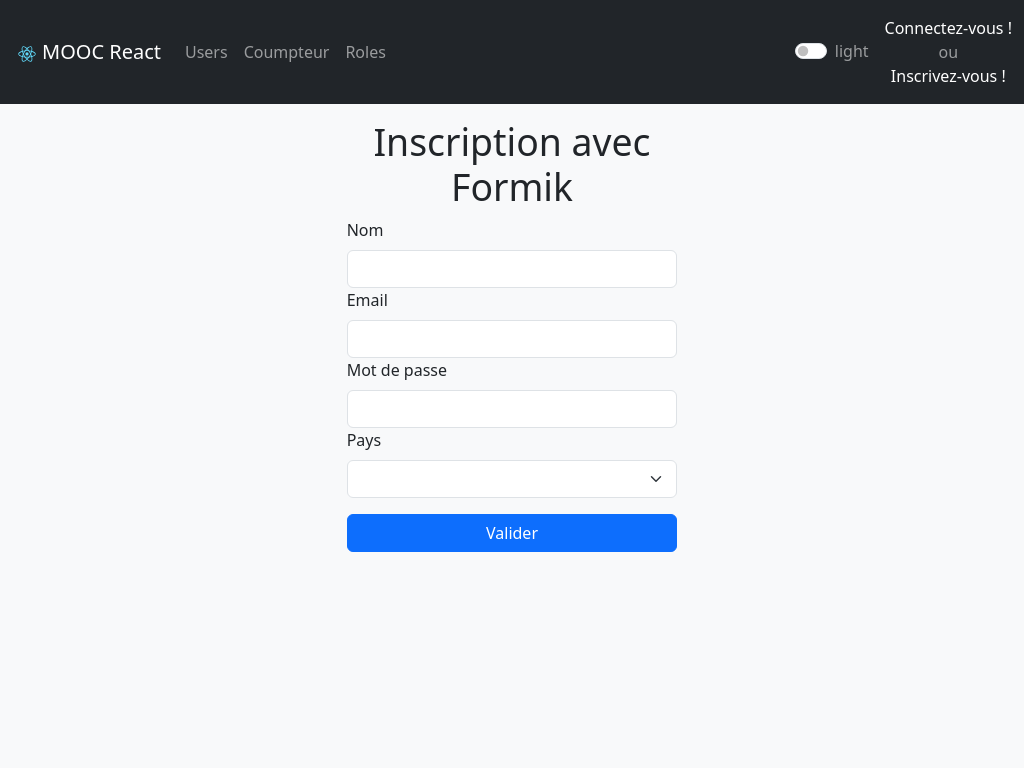
Test case: Inscription › devrait afficher une erreur si mot de passe trop court
Step 1. Type "TestName" into the field with id "name" → [513, 269], box x1=347 y1=250 x2=678 y2=288
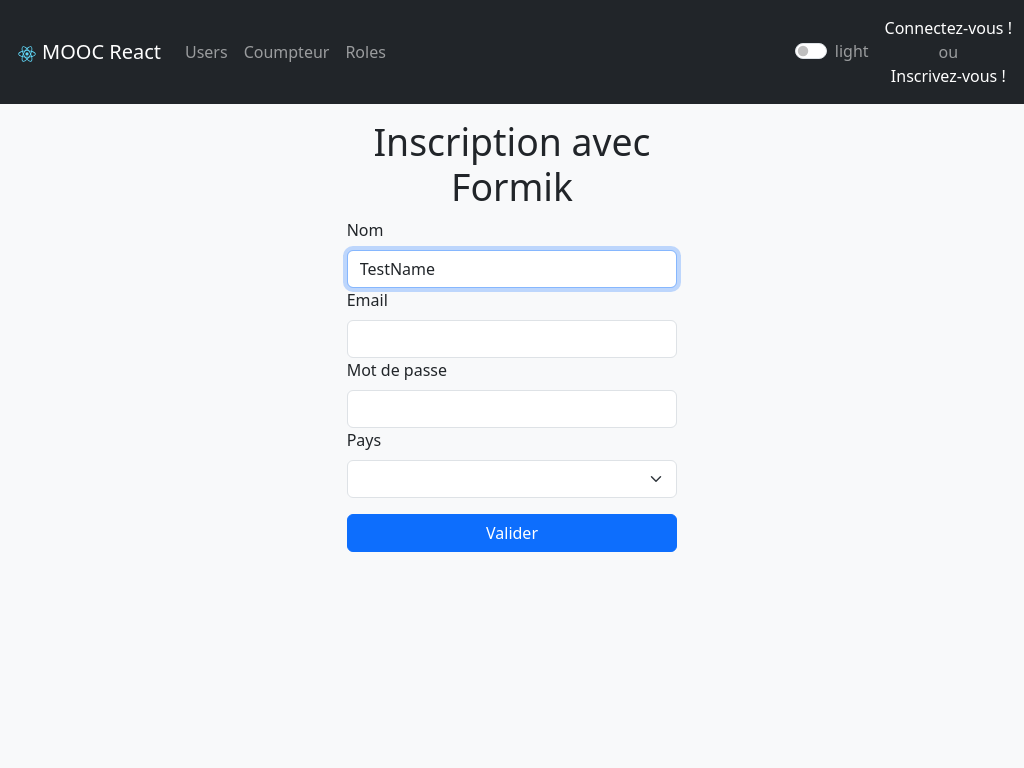
Step 2. Type "test@test.fr" into the field with id "email" → [513, 339], box x1=347 y1=320 x2=678 y2=358
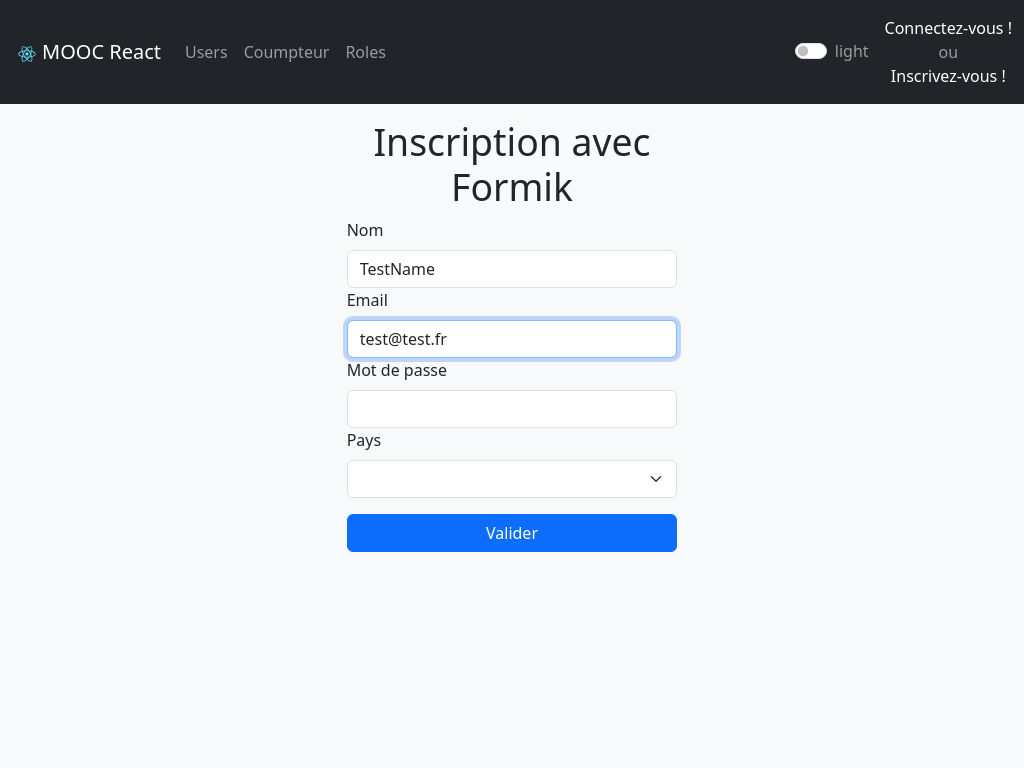
Step 3. Type "1234567" into the password field labelled "Mot de passe" → [513, 409], box x1=347 y1=390 x2=678 y2=428
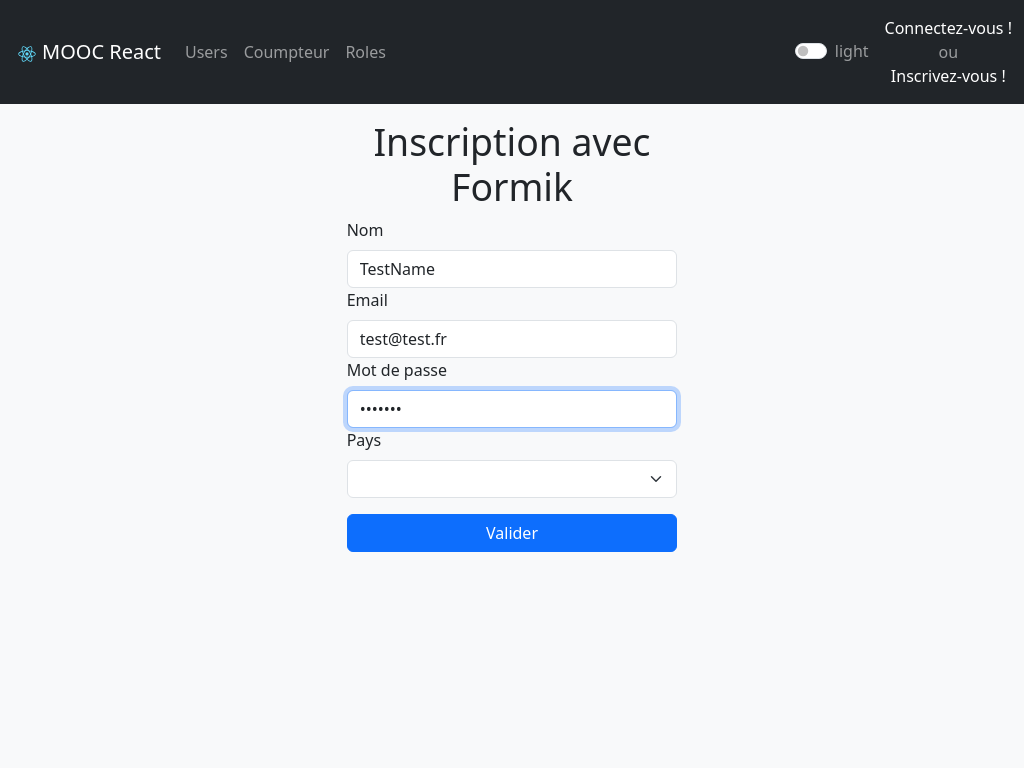
Step 4. Click the submit button → [513, 533], box x1=347 y1=514 x2=678 y2=552
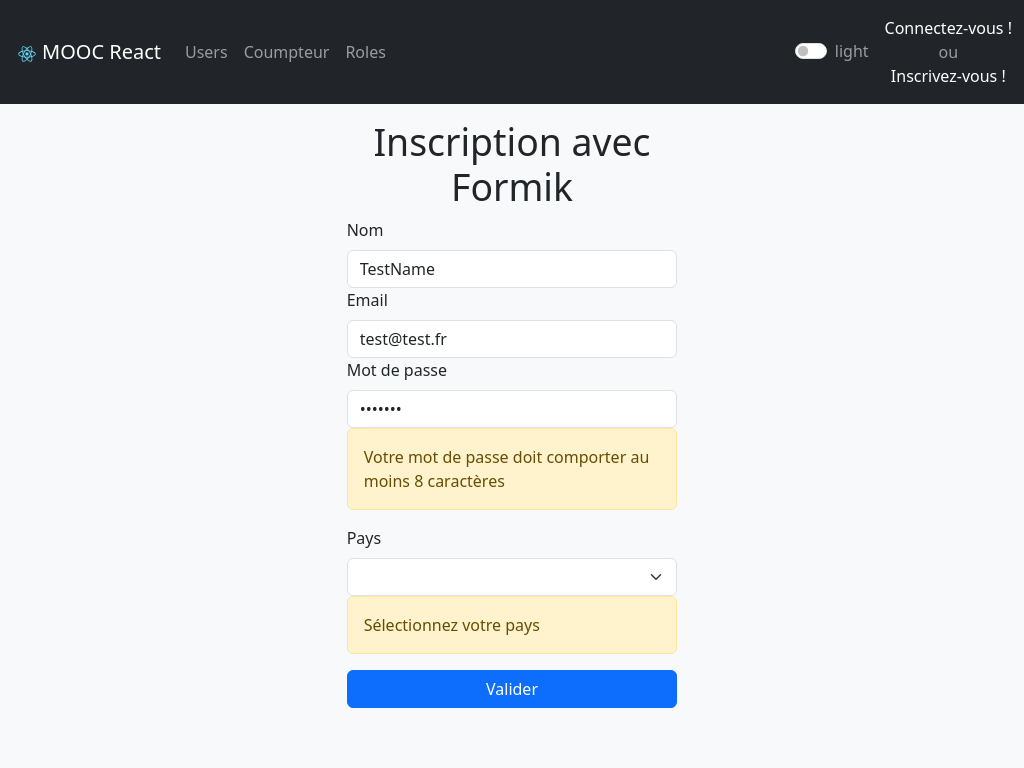
Expected: the text with class "alert-warning" reads "Votre mot de passe doit comporter au moins 8 caractères", x1=347 y1=428 x2=678 y2=510
